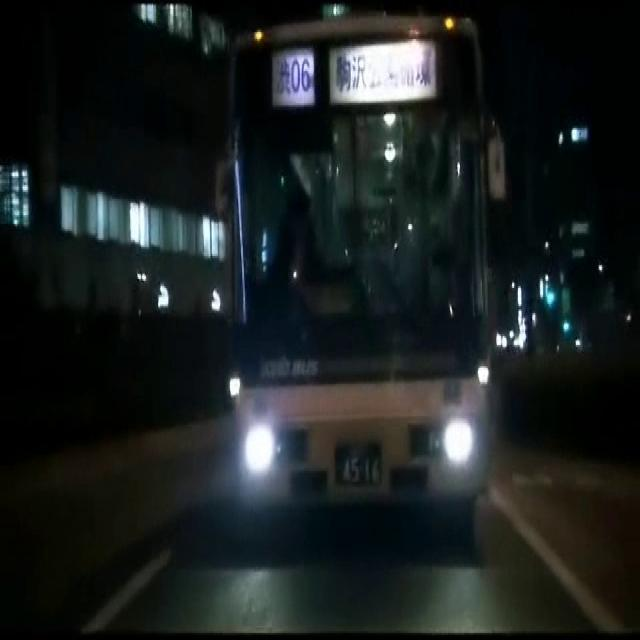Bus: (204, 0, 551, 578)
